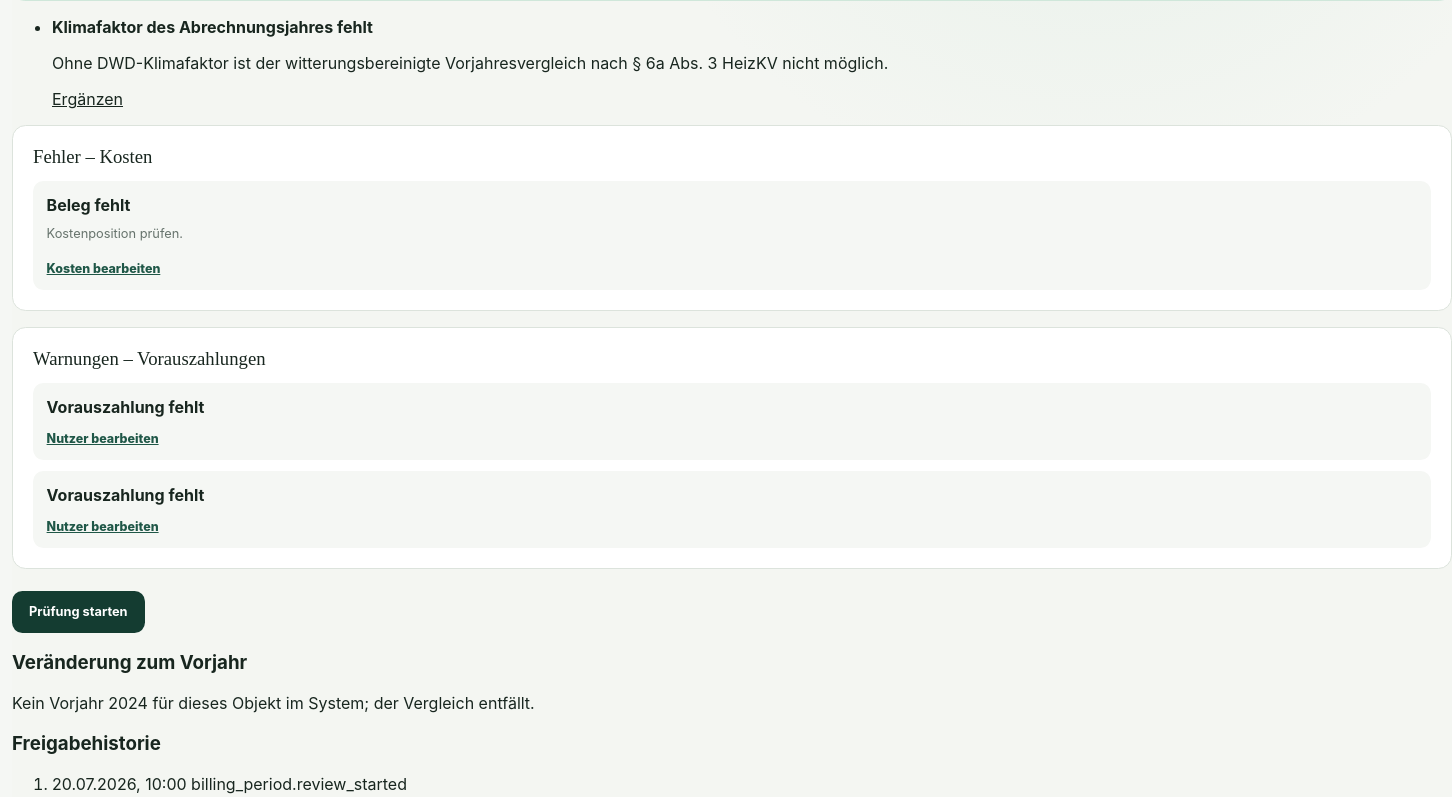
Test: ReleaseRoute › zeigt einen geworfenen Statusfehler als Alert
(page scrolled)
Click the button "Prüfung starten" at (78, 612), box [12, 591, 145, 633]
(page scrolled)
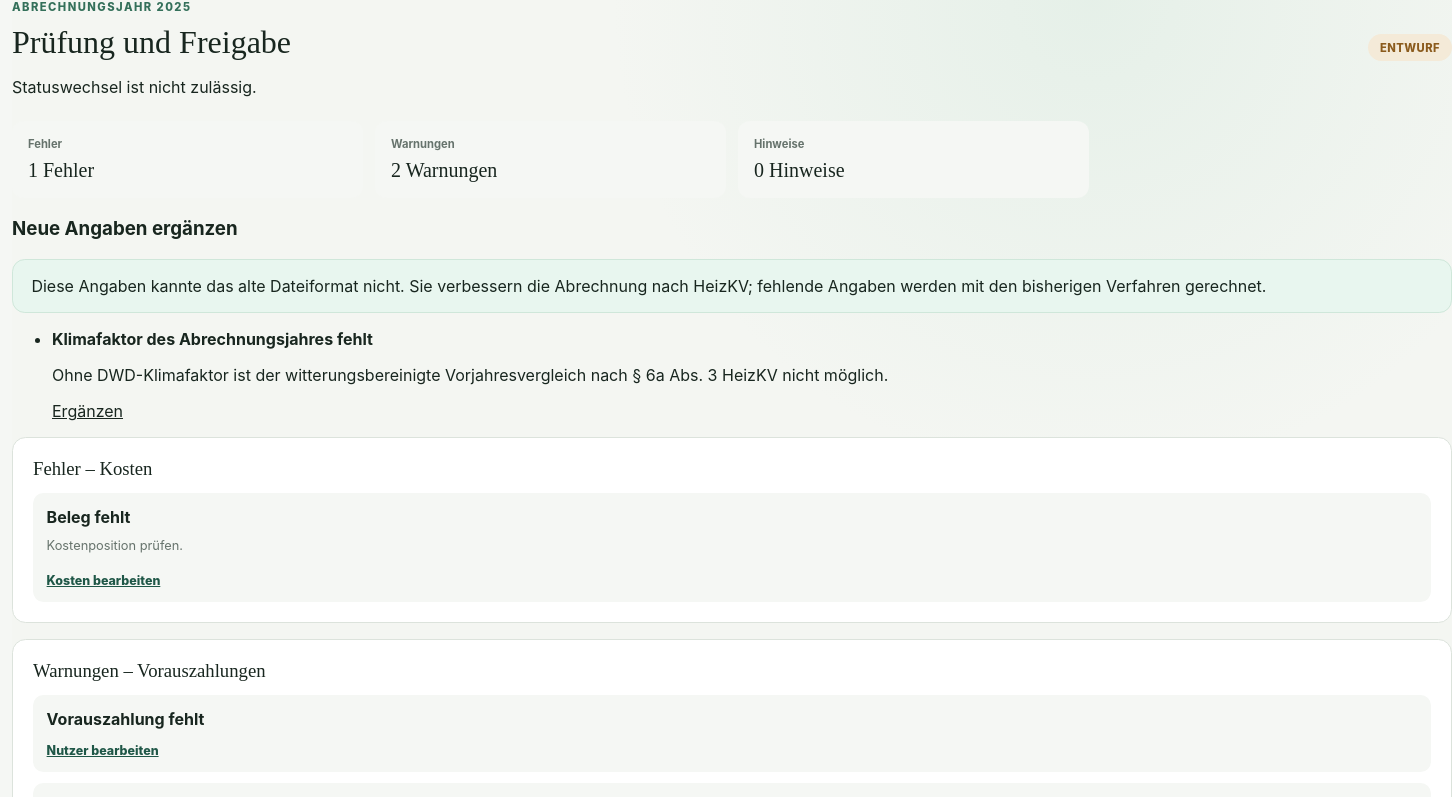
Now the message reads "Statuswechsel ist nicht zulässig.", box [12, 77, 257, 97]
